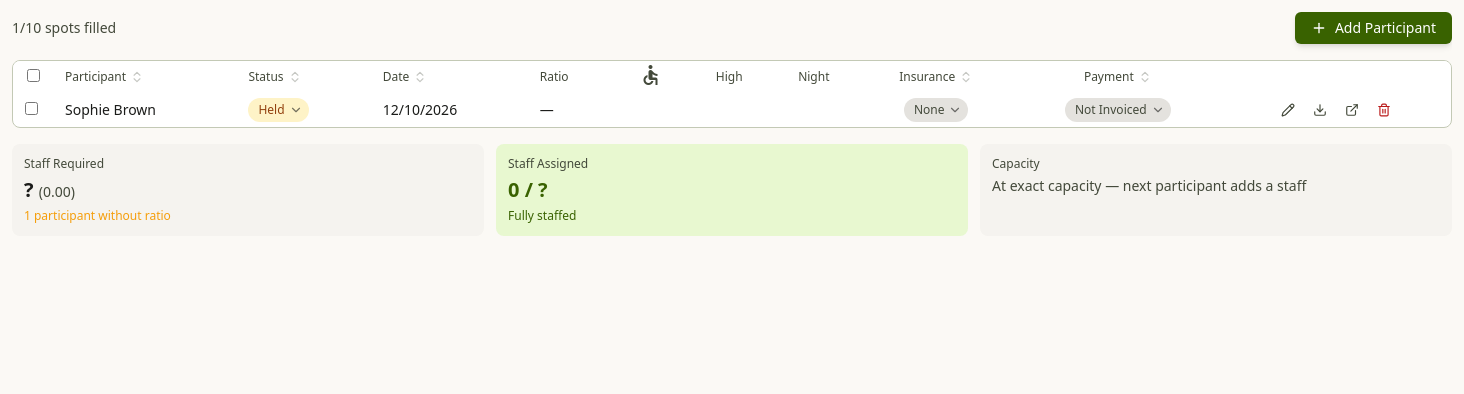
it: BookingsTab — the budget warning of a booking just confirmed › shows the server’s warning when the row’s status is changed to Confirmed, and says the booking is confirmed
Click the button "Held": (279, 110) x1=248 y1=98 x2=309 y2=122
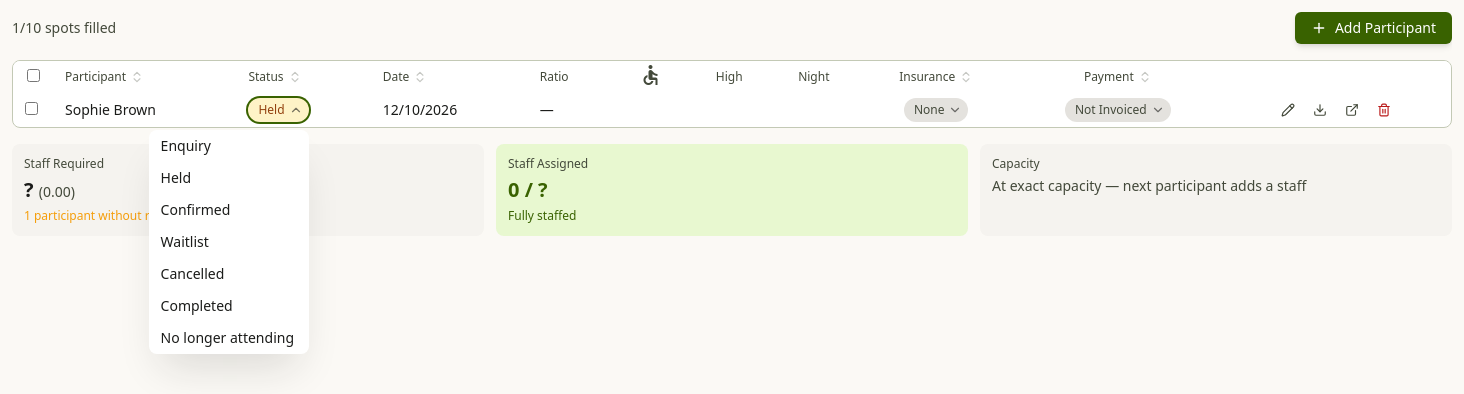
Click the option "Confirmed": (196, 210) x1=161 y1=200 x2=230 y2=219
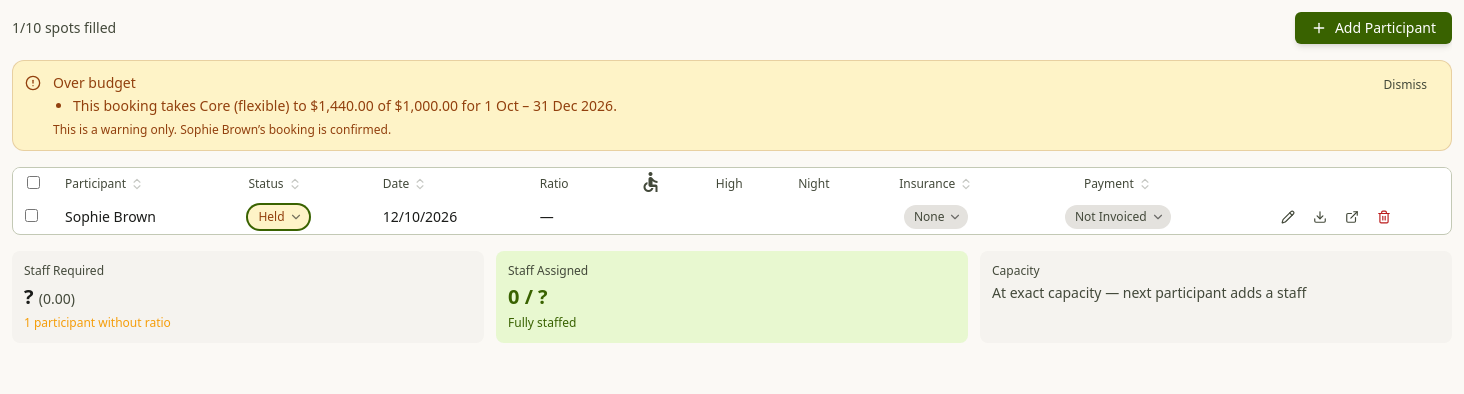
Check: the text "This is a warning only. Sophie Brown’s booking is confirmed." is shown, box x1=53 y1=120 x2=391 y2=138
